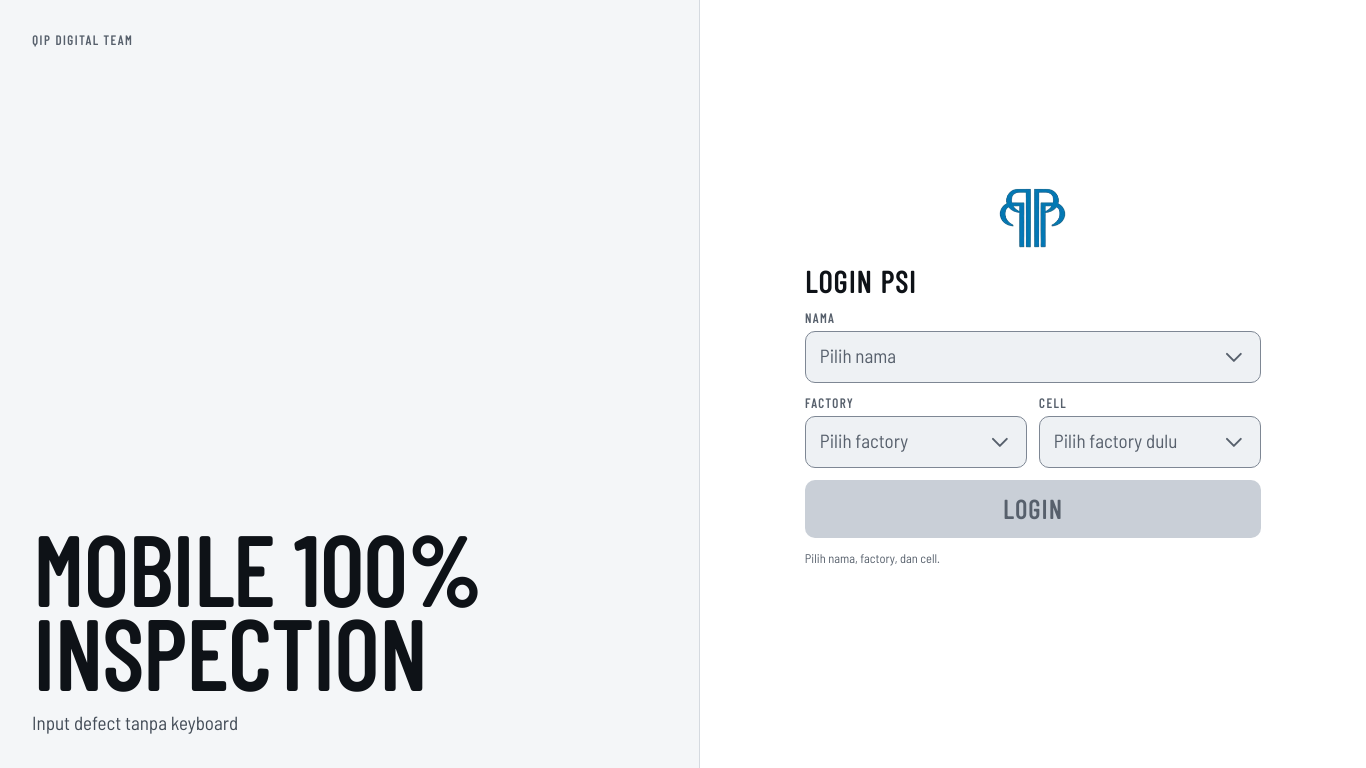
LoginScreen (doc 05 §7) › shows the chosen name with its level
Click the button "Pilih nama": x=858, y=356 x1=805 y1=331 x2=1261 y2=383
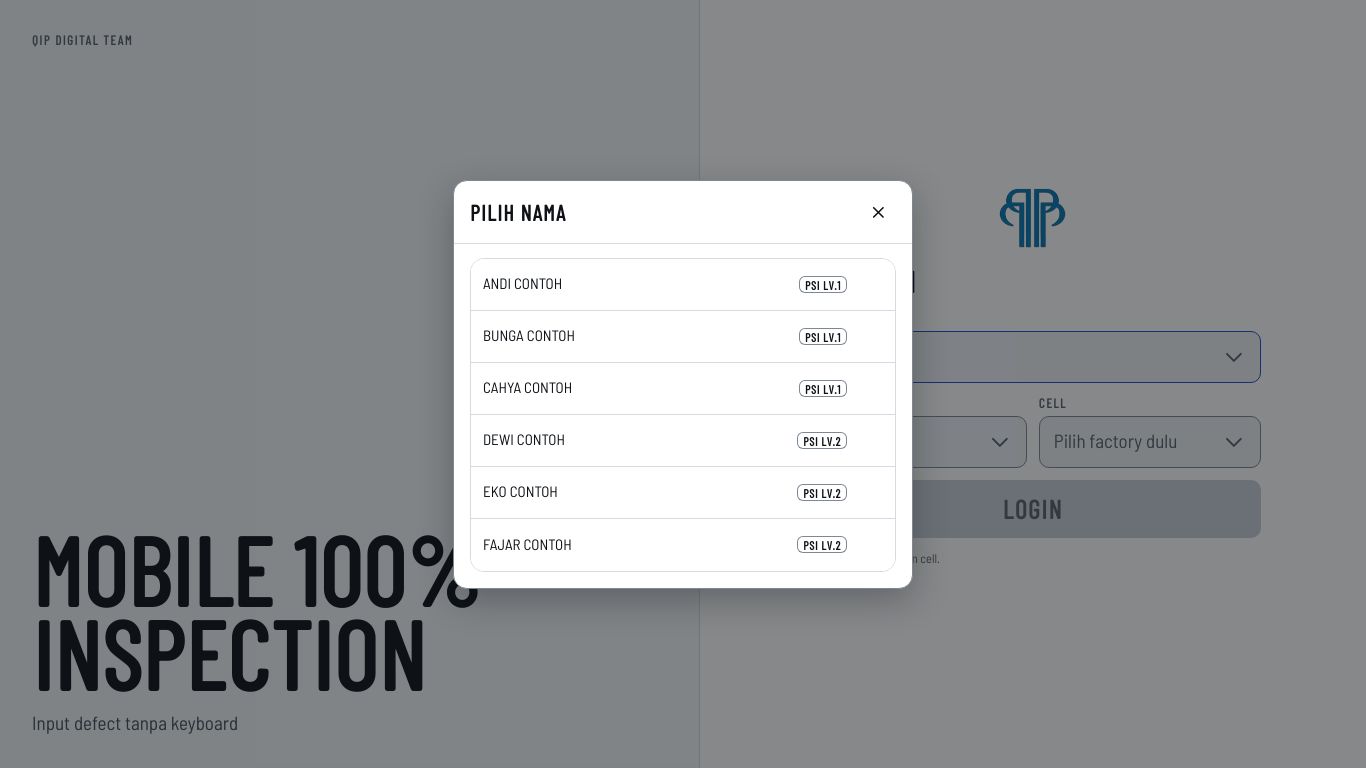
Click the option "ANDI CONTOH PSI lv.1": x=523, y=283 x1=471 y1=258 x2=895 y2=310
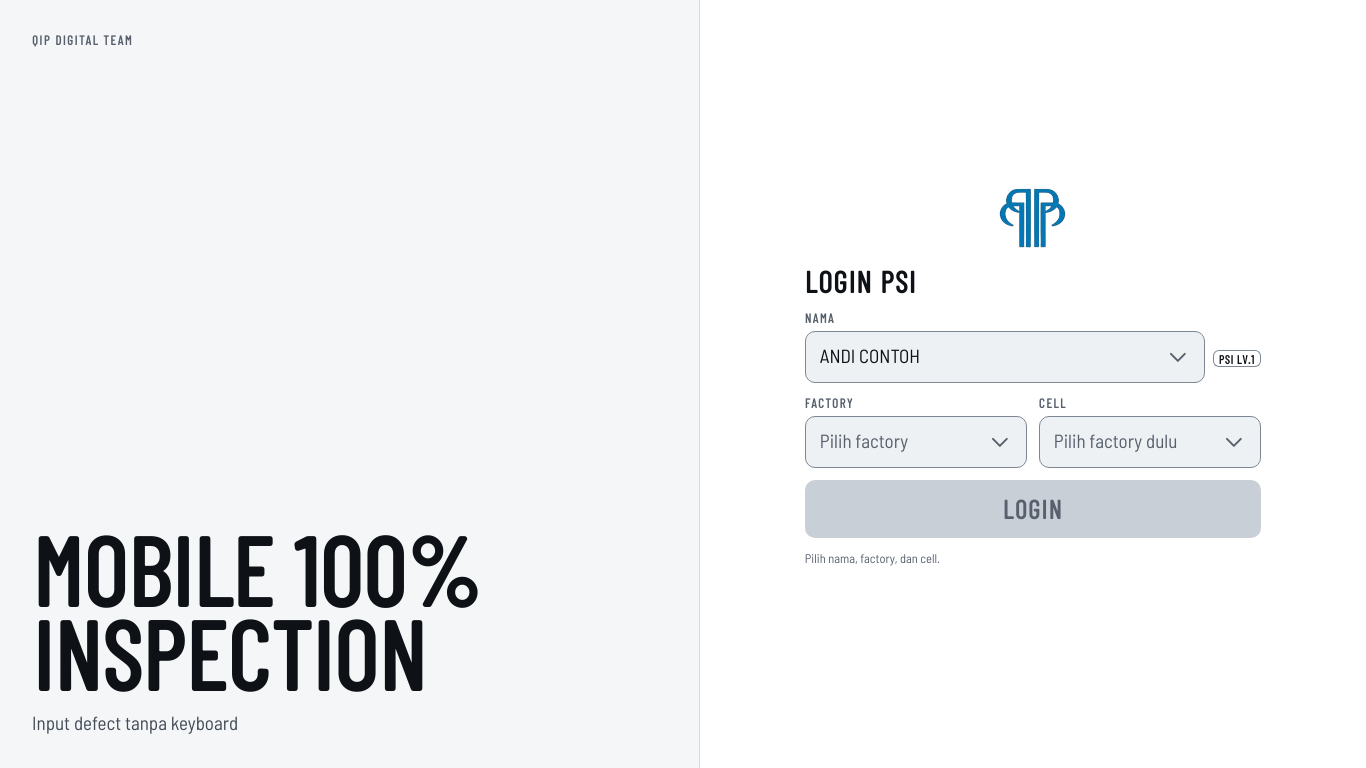
Check: the text "PSI lv.1" is shown, box x1=1213 y1=350 x2=1261 y2=367
Check: the button named "Nama" reads "ANDI CONTOH", box x1=805 y1=331 x2=1205 y2=383
